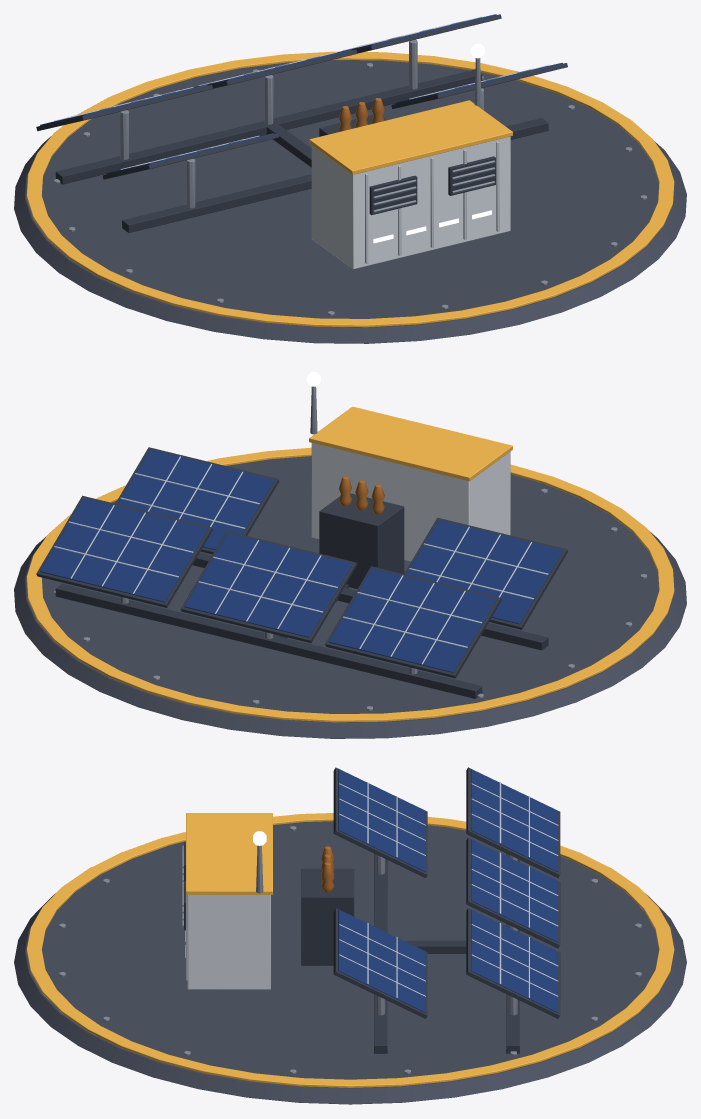
Rendered from energy.fbx.
3 views of the same model, one above another, from view 1: azimuth 30°, elevation 25°; view 2: azimuth 150°, elevation 25°; view 3: azimuth 270°, elevation 25° (orthographic).
Visible parts, largest first — view 1: energy_Koerper; view 2: energy_Koerper; view 3: energy_Koerper.
Boxes of the visible parts, <box> form: energy_Koerper: <box>14,14,686,343</box>; energy_Koerper: <box>14,372,686,738</box>; energy_Koerper: <box>14,767,686,1104</box>.
Size of the model in its own units: 8.89 by 2.49 by 8.89.
